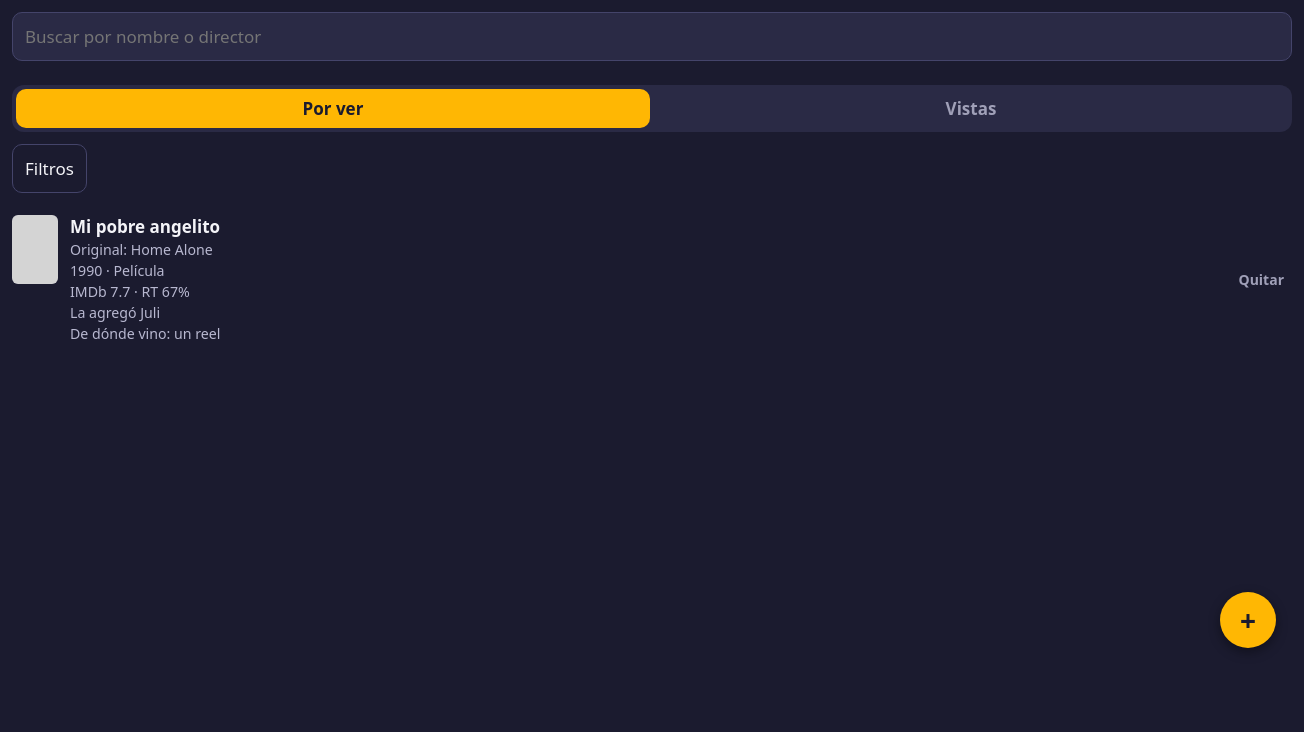
Test: Por ver and Vistas tabs split the list, newest watched first
The width and height of the screenshot is (1304, 732).
Expected: the text "Mi pobre angelito" is shown, x1=70 y1=215 x2=220 y2=238
Expected: the text "Vista antes" is not shown
Click the button "Vistas" at (971, 108), box x1=654 y1=89 x2=1288 y2=128
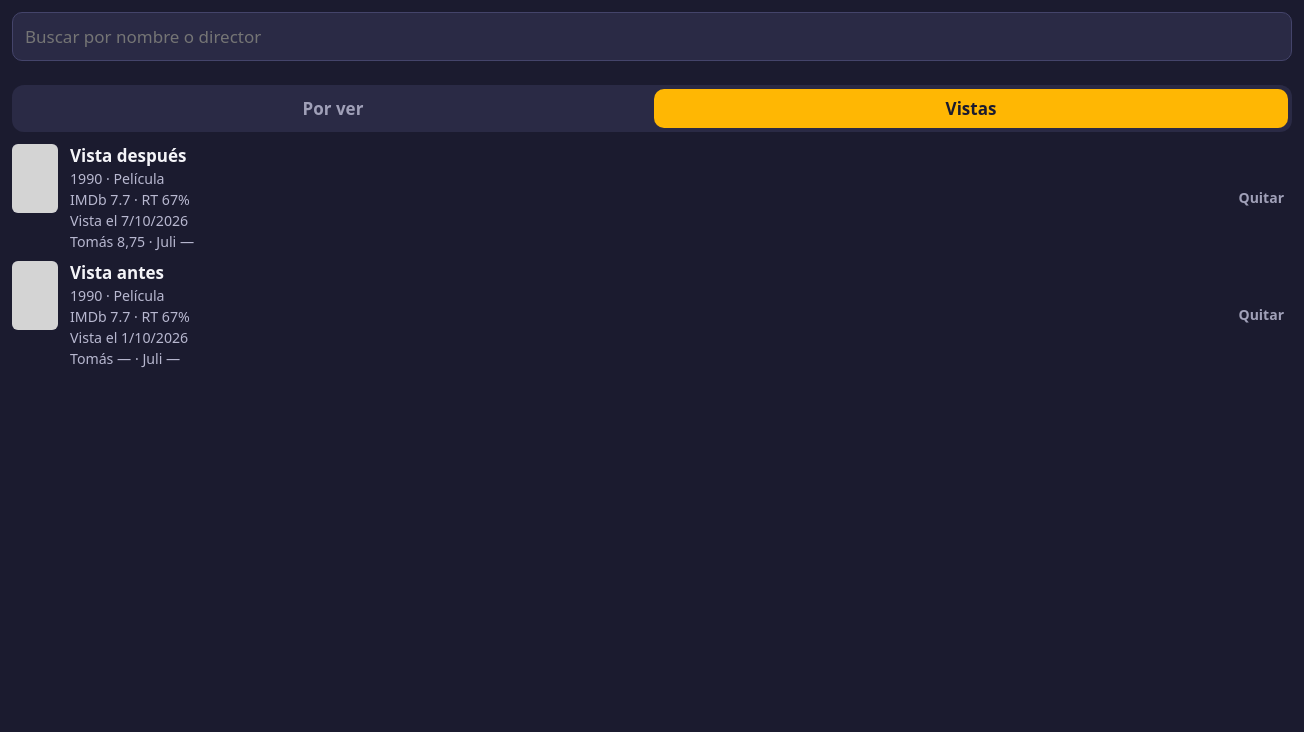
Result: the button "Mi pobre angelito" is gone
Result: the button "Agregar" is gone
Result: the text "Vista el 7/10/2026" is shown at x1=70 y1=211 x2=194 y2=230
